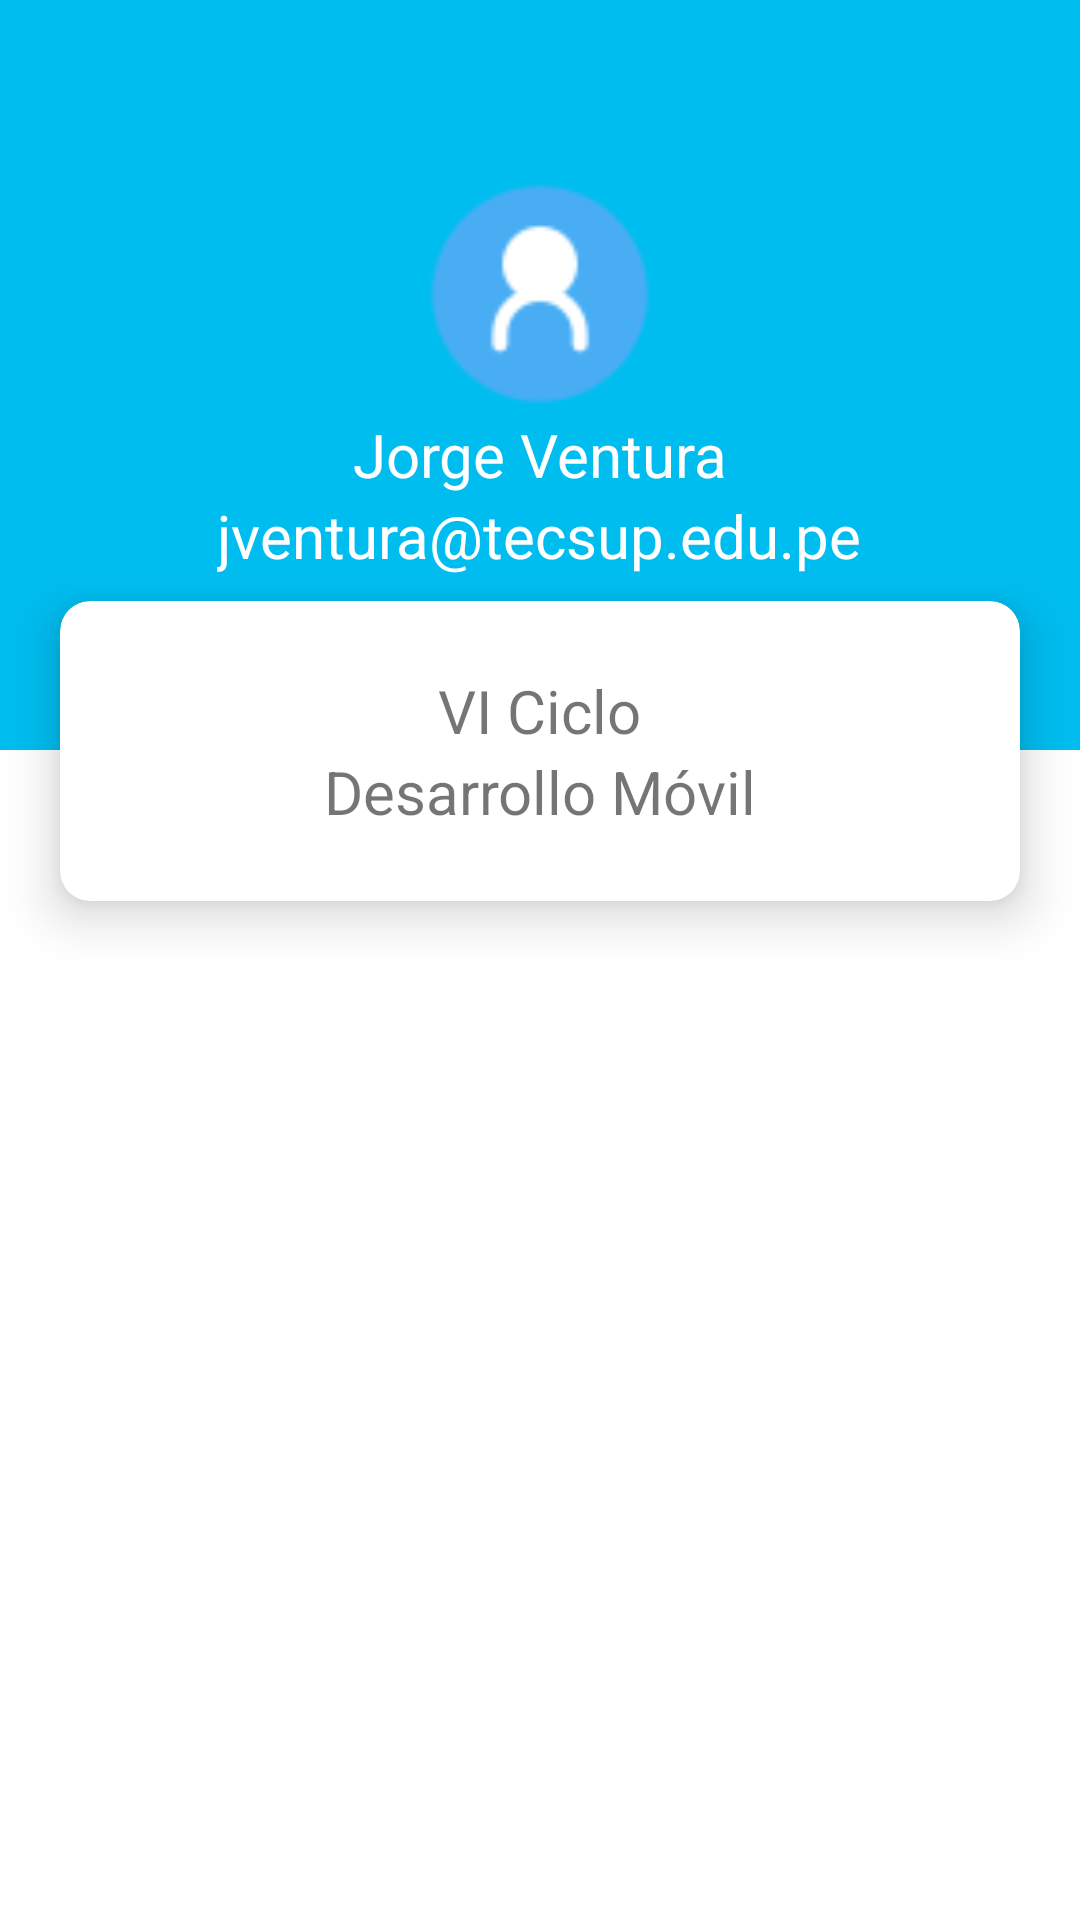

Named icons in this screenshot (1080x1920) and their centers, (x=x, y=y):
account: (x=540, y=294)
